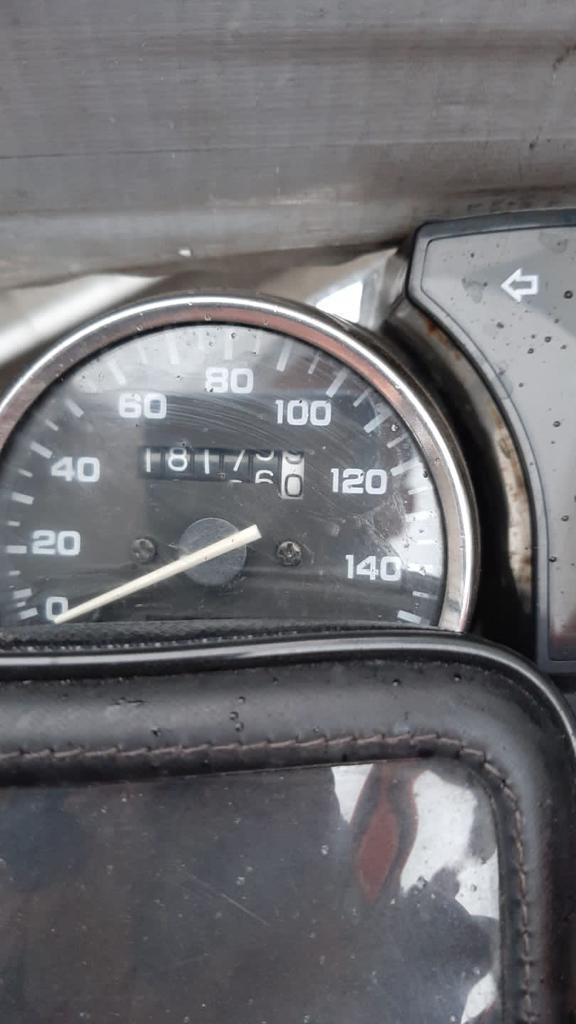0: (282, 468, 306, 502)
1: (199, 445, 213, 476), (144, 445, 154, 476)
6: (253, 465, 277, 495)
7: (227, 445, 248, 473)
8: (166, 444, 190, 474)
odometer: (137, 442, 311, 502)
